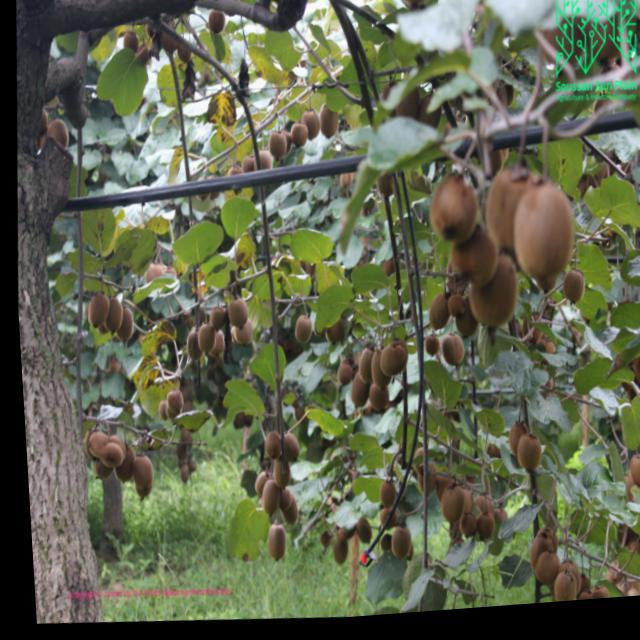kiwi: (508, 187, 576, 296), (482, 172, 549, 262), (461, 256, 519, 346), (423, 180, 479, 252), (446, 233, 499, 299), (434, 489, 461, 532), (510, 441, 538, 481), (556, 274, 582, 316), (83, 294, 109, 336), (375, 349, 405, 385), (365, 353, 390, 396), (501, 427, 527, 468), (125, 455, 150, 497), (95, 298, 121, 336), (424, 300, 449, 338), (435, 339, 462, 374), (253, 482, 276, 523), (345, 377, 368, 416), (109, 309, 132, 347), (316, 108, 338, 147), (223, 301, 247, 334), (267, 460, 288, 494), (265, 135, 287, 167), (193, 324, 213, 359), (299, 113, 320, 145), (252, 153, 273, 183), (258, 434, 278, 465), (276, 435, 296, 466), (230, 320, 250, 350), (289, 318, 309, 348), (373, 484, 392, 514), (260, 526, 281, 550), (161, 391, 180, 417), (290, 125, 308, 152), (205, 308, 222, 334), (205, 333, 222, 359), (418, 342, 437, 364)
